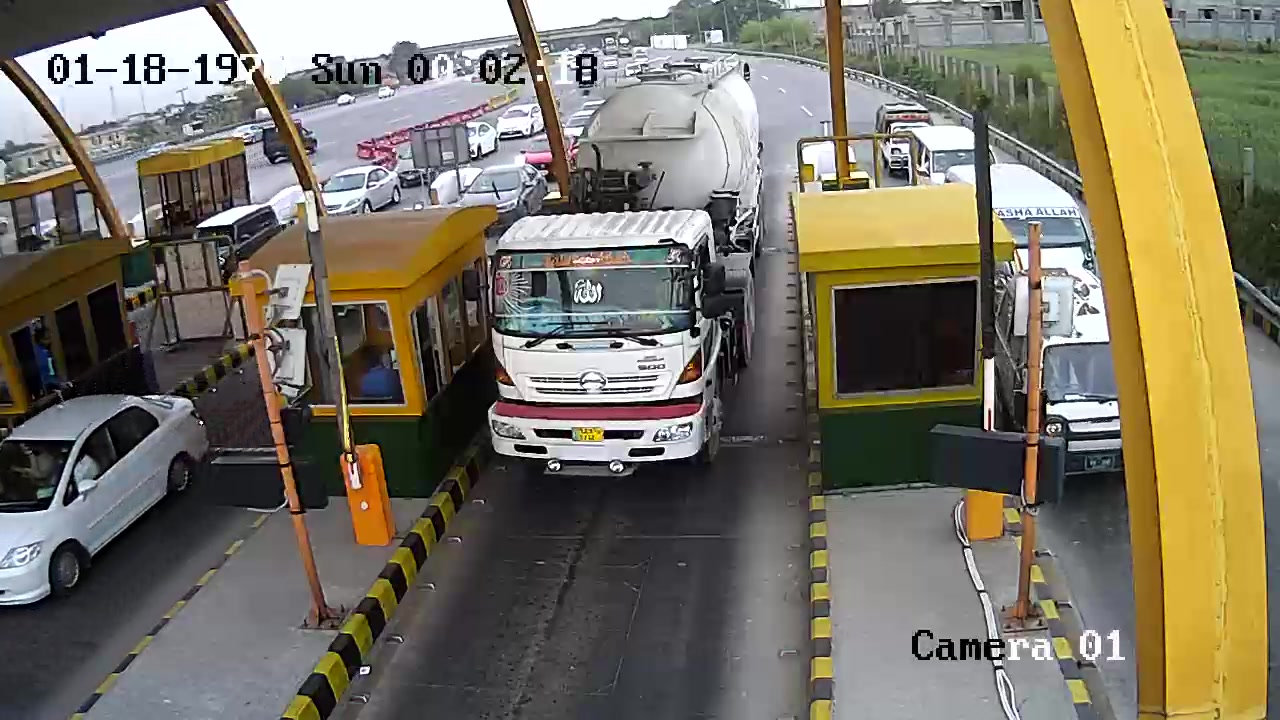F6: (481, 43, 774, 490)
